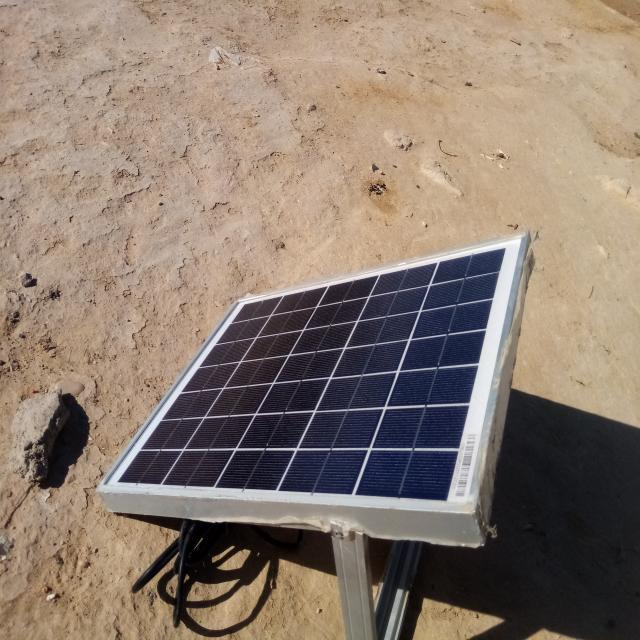no faulty: (103, 238, 528, 515)
